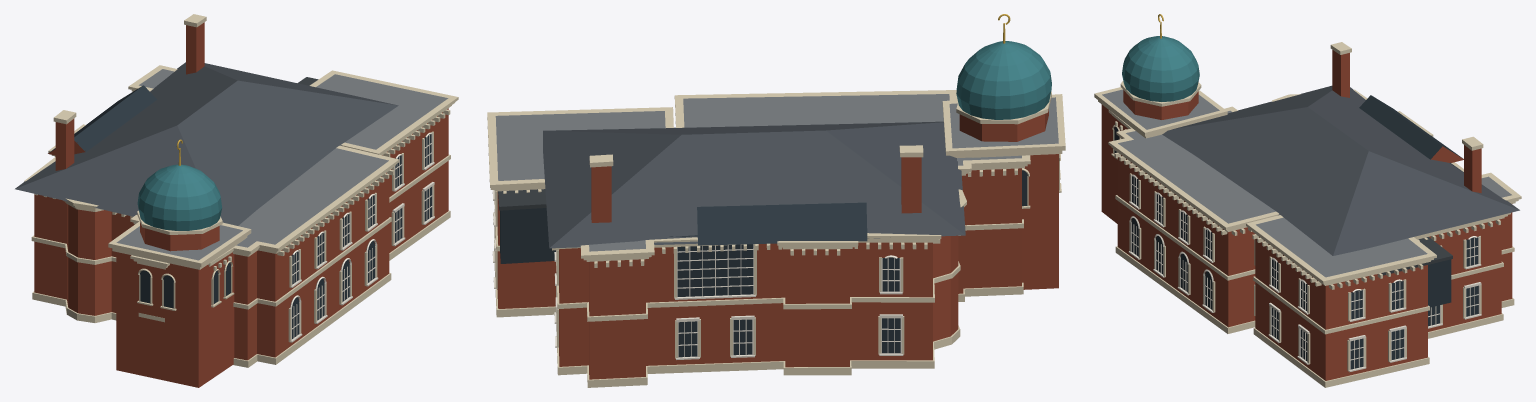
Rendered from leighton_house.glb.
The picture shows the model from 3 angles, left to right: view 1: azimuth 30°, elevation 25°; view 2: azimuth 150°, elevation 25°; view 3: azimuth 270°, elevation 25°; orthographic projection. The views are drawn at different scales.
Size of the model in its own units: 34.11 by 17.61 by 31.77.
